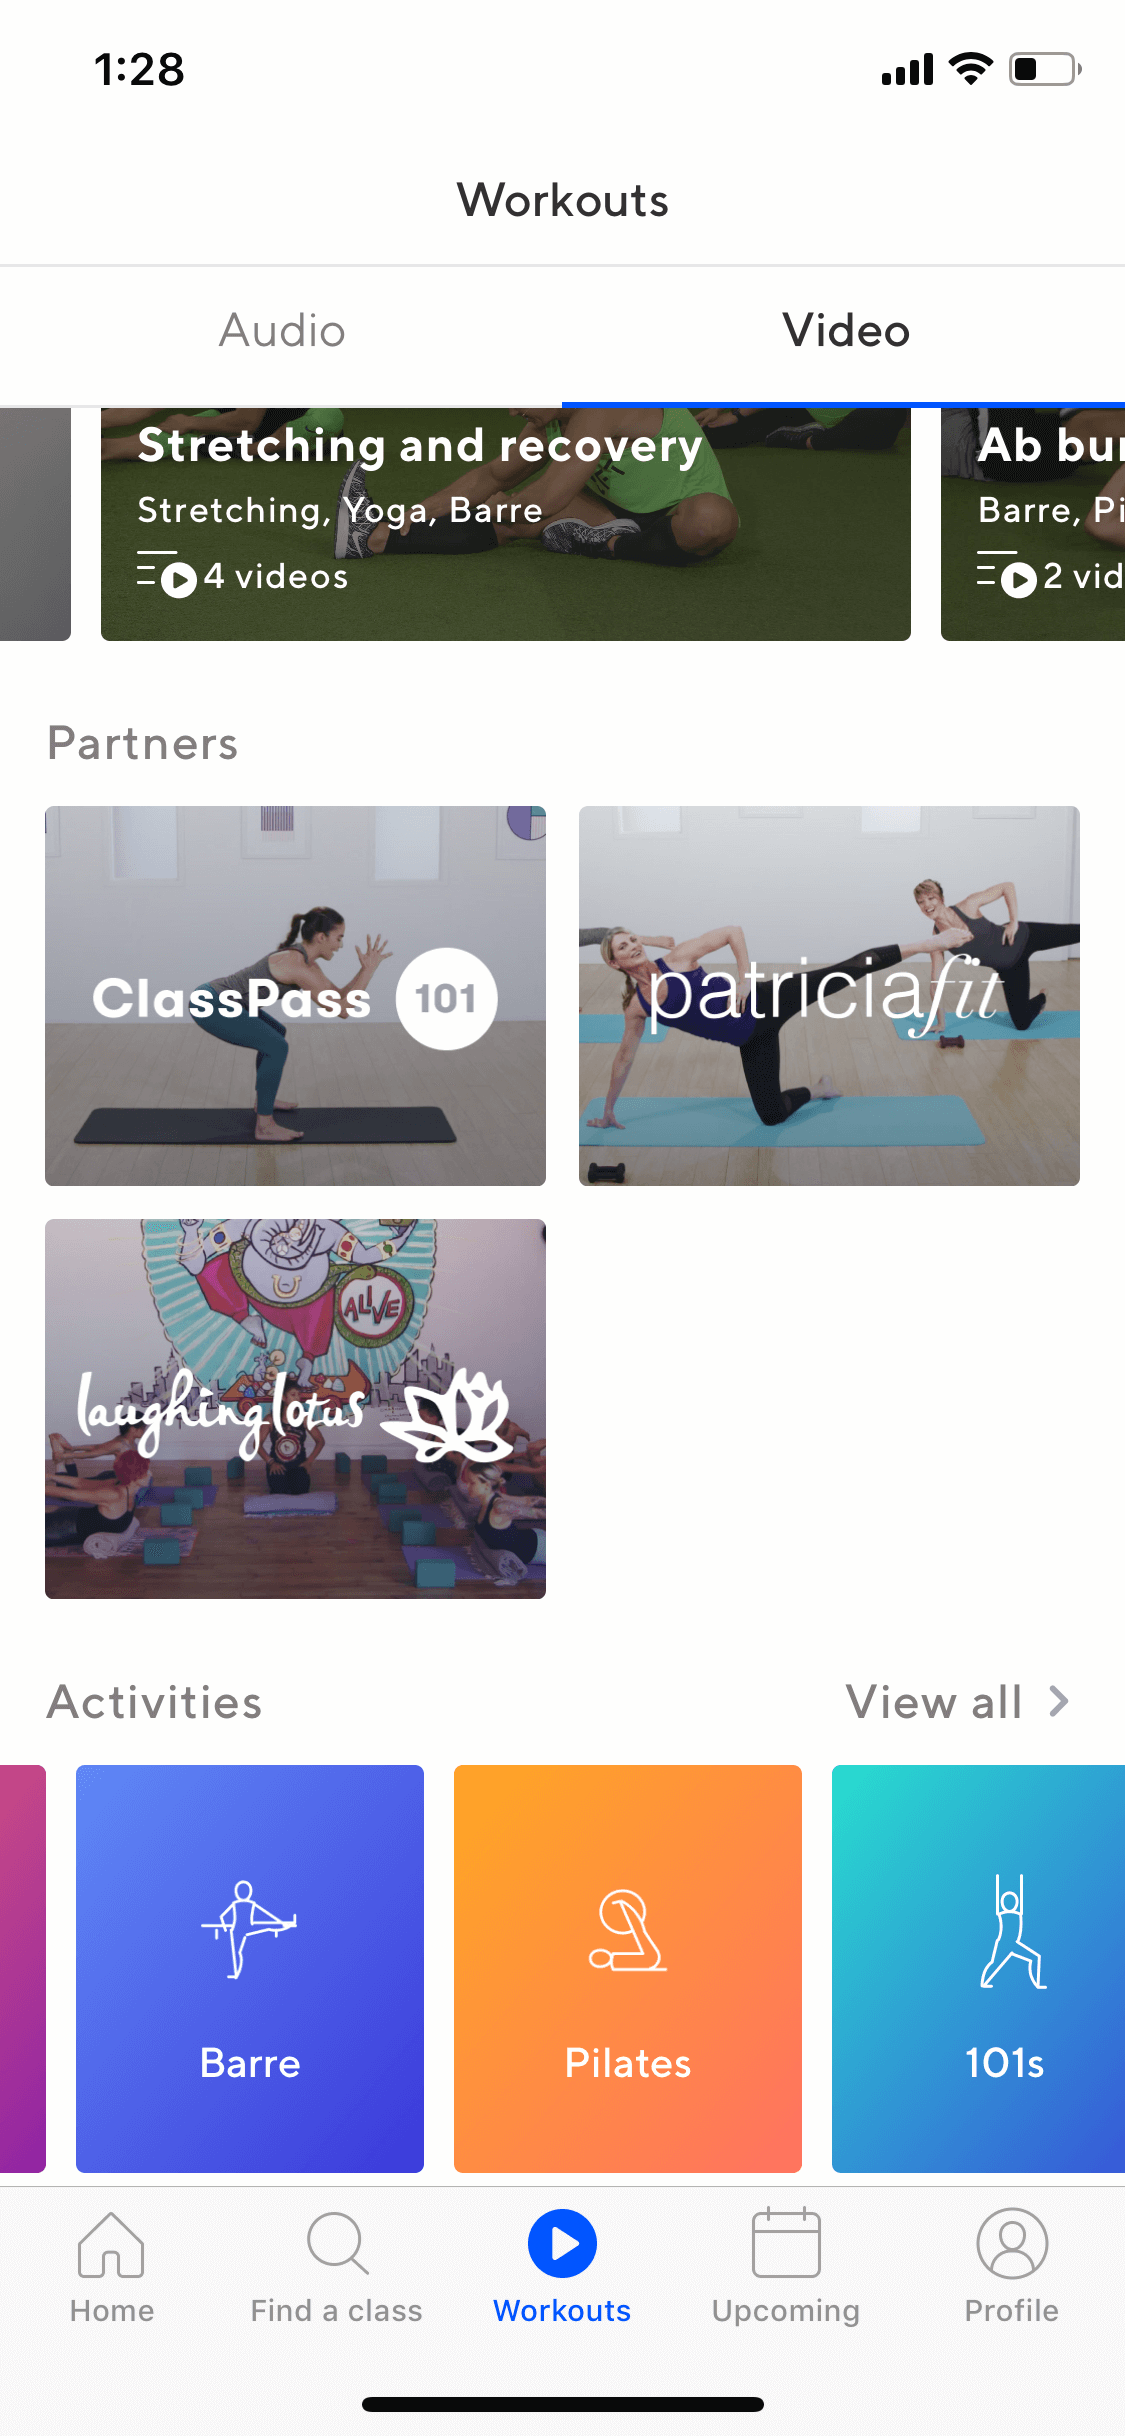Buttons: (827, 1637, 1092, 1756)
